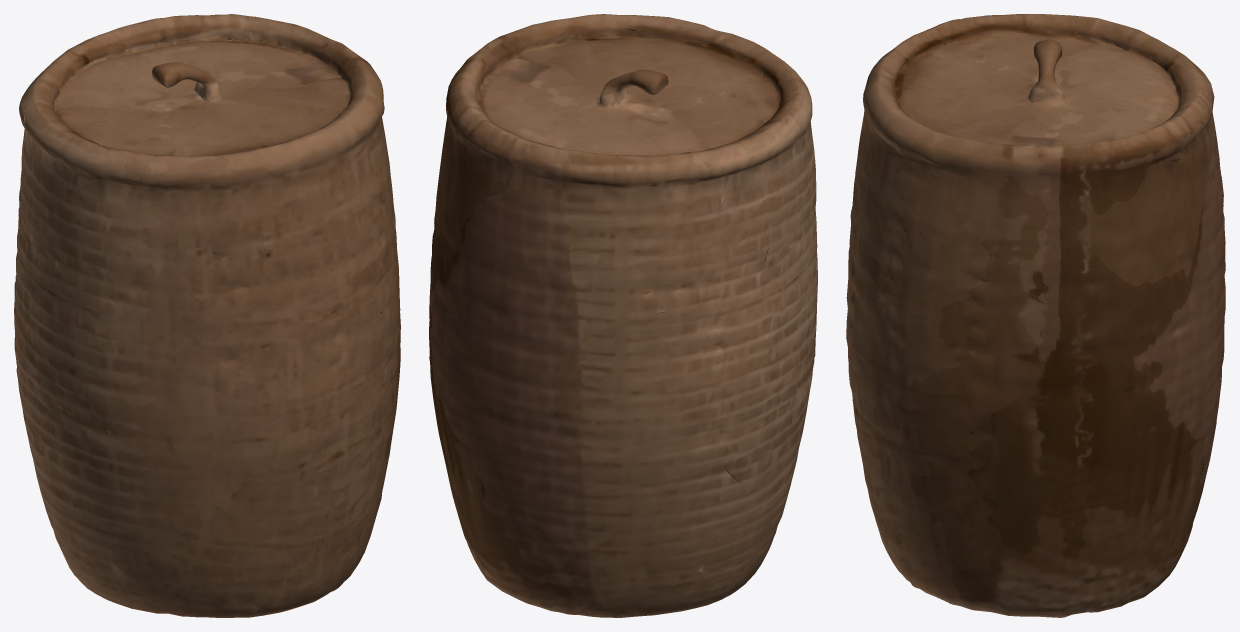
The model's file is BarrelSmall.glb.
3 views of the same model, side by side, from view 1: azimuth 30°, elevation 25°; view 2: azimuth 150°, elevation 25°; view 3: azimuth 270°, elevation 25° (orthographic).
Parts seen in each view (by area): view 1: BarrelSmall; view 2: BarrelSmall; view 3: BarrelSmall.
Boxes of the visible parts, <box> form: BarrelSmall: <box>14,14,400,617</box>; BarrelSmall: <box>429,14,817,617</box>; BarrelSmall: <box>846,14,1225,617</box>.
Size of the model in its own units: 0.6984 by 1.02 by 0.6945.
1 material, 1 textured.
